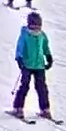skier: (5, 12, 65, 125)
